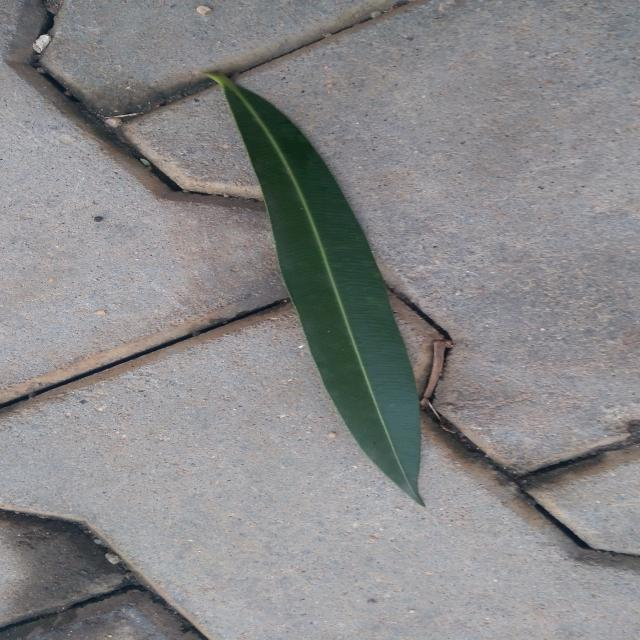ganigale: (209, 75, 422, 504)
